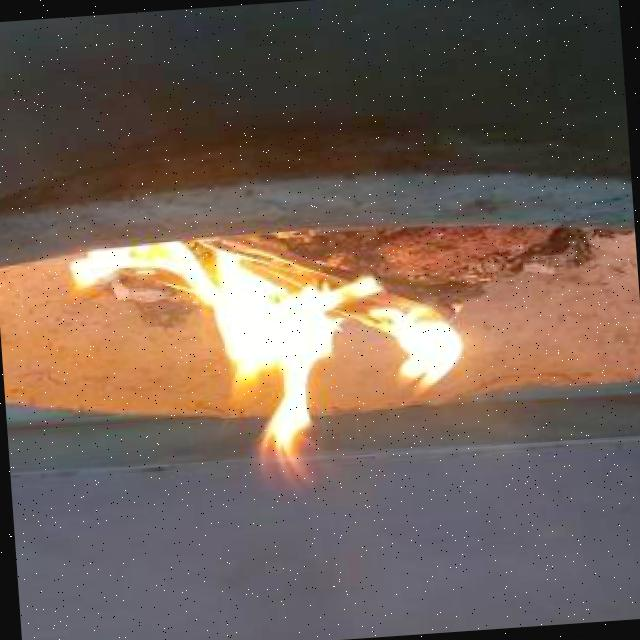fire: (76, 226, 464, 487)
